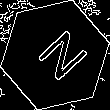N_SW: (24, 23, 86, 87)
